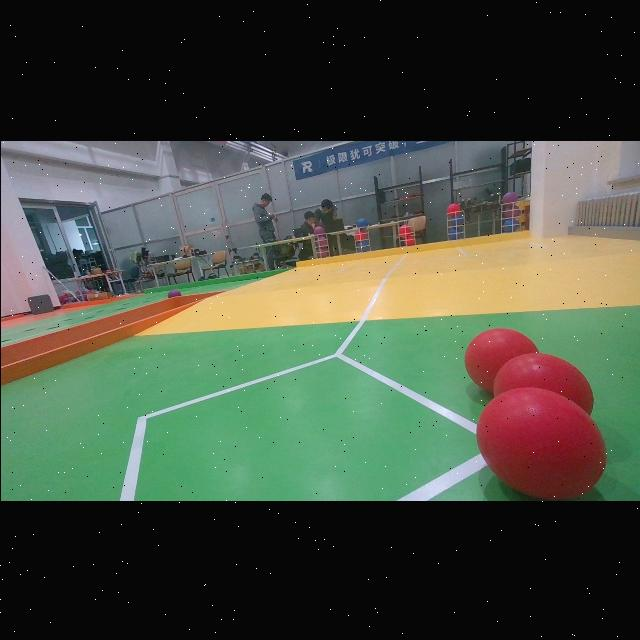R: (475, 386, 605, 498), (493, 351, 593, 417), (462, 323, 534, 383)
